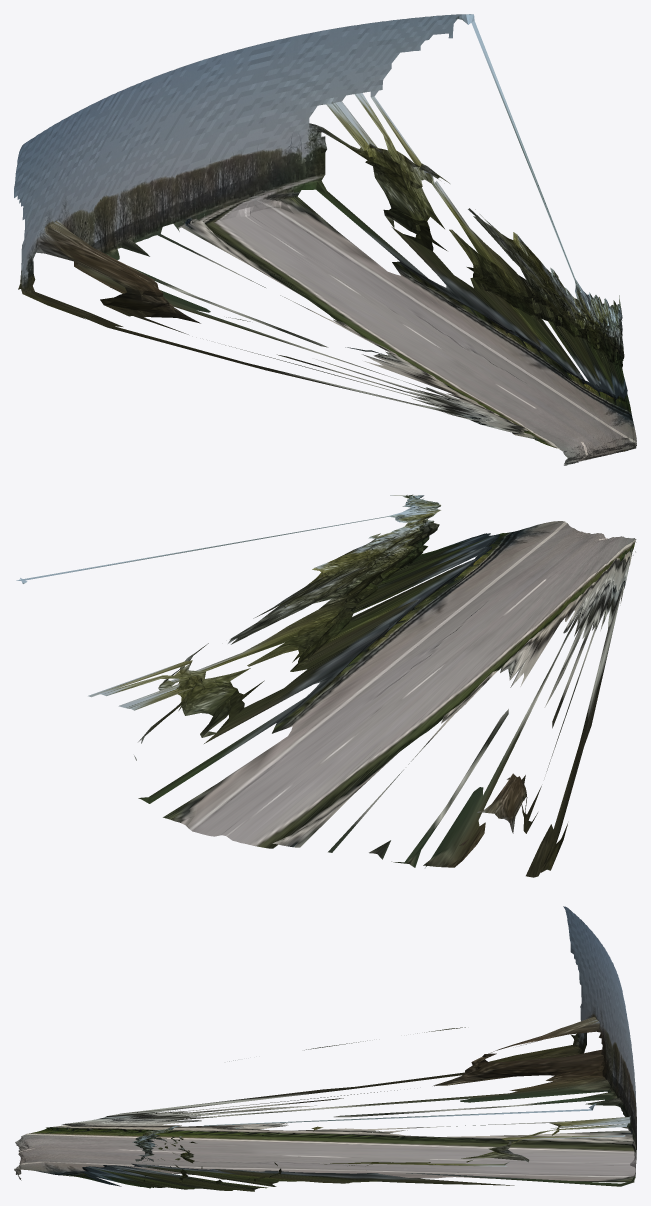
3 views of the same model, one above another, from view 1: azimuth 30°, elevation 25°; view 2: azimuth 150°, elevation 25°; view 3: azimuth 270°, elevation 25° (orthographic). The views are drawn at different scales.
Visible parts, largest first — view 1: defaultobject; view 2: defaultobject; view 3: defaultobject.
Part boxes in pixels (x1=…): defaultobject: x1=14, y1=14, x2=636, y2=465; defaultobject: x1=16, y1=494, x2=636, y2=877; defaultobject: x1=14, y1=906, x2=636, y2=1191.
Size of the model in its own units: 34.76 by 12.11 by 44.33.
Materials: 1 (1 with a texture image).
